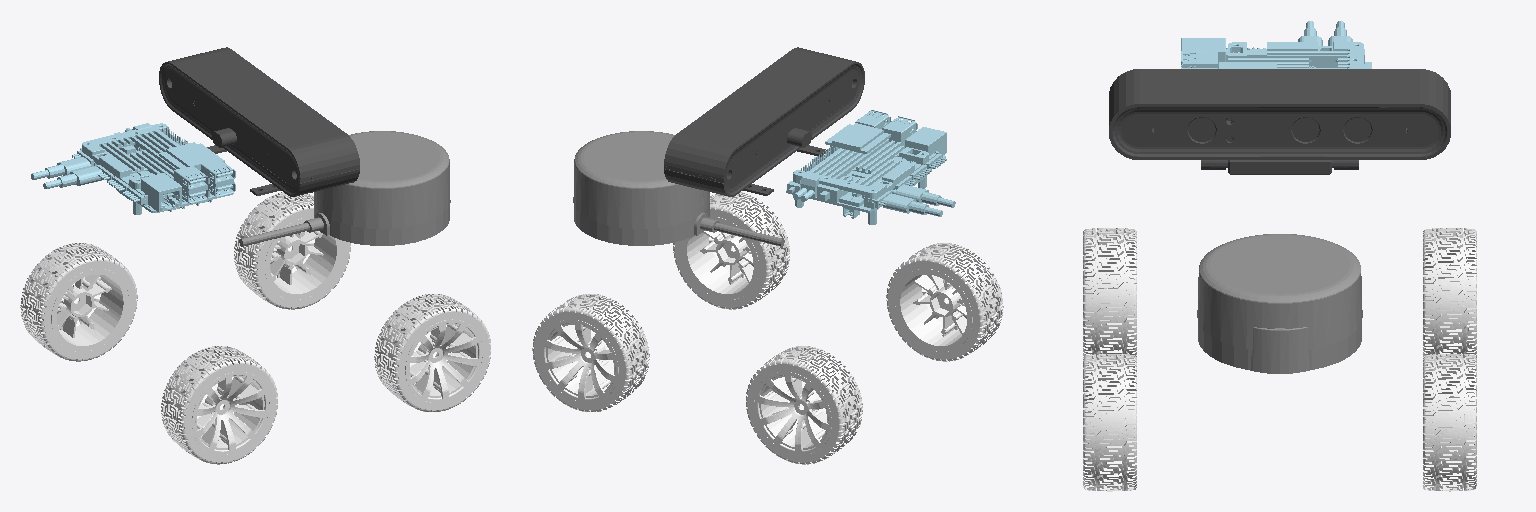
URDF robot description (V550_akm_robot):
<?xml version="1.0" encoding="utf-8"?>
<!-- This URDF was automatically created by SolidWorks to URDF Exporter! Originally created by [author] ([email redacted]) 
     Commit Version: 1.6.0-4-g7f85cfe  Build Version: 1.6.7995.38578
     For more information, please see http://wiki.ros.org/sw_urdf_exporter -->
<robot
  name="V550_akm_robot">
  <link
    name="base_link">
    <inertial>
      <origin
        xyz="-0.0110433387782798 0.00276685441311947 0.0410022330200752"
        rpy="0 0 0" />
      <mass
        value="0.615535458832811" />
      <inertia
        ixx="0.00109033759487232"
        ixy="-2.28207446863102E-06"
        ixz="-1.36249048041868E-05"
        iyy="0.00182350249943942"
        iyz="7.50013898821029E-07"
        izz="0.00272063031666609" />
    </inertial>
    <visual>
      <origin
        xyz="0 0 0"
        rpy="0 0 0" />
      <geometry>
        <mesh
          filename="package://wheeltec_robot_urdf/meshes/V550_akm_robot_meshes/base_link.STL" />
      </geometry>
      <material
        name="">
        <color
          rgba="0.741176470588235 0.901960784313726 0.956862745098039 1" />
      </material>
    </visual>
    <collision>
      <origin
        xyz="0 0 0"
        rpy="0 0 0" />
      <geometry>
        <mesh
          filename="package://wheeltec_robot_urdf/meshes/V550_akm_robot_meshes/base_link.STL" />
      </geometry>
    </collision>
  </link>
  <link
    name="laser_link">
    <inertial>
      <origin
        xyz="0.0037632088127475 -2.06697583141069E-05 0.00474768104523521"
        rpy="0 0 0" />
      <mass
        value="0.057830101833014" />
      <inertia
        ixx="3.4507104093221E-05"
        ixy="8.28206446199136E-08"
        ixz="-1.04628936889599E-06"
        iyy="3.98542740770754E-05"
        iyz="-4.8996851389614E-09"
        izz="5.38409737226242E-05" />
    </inertial>
    <visual>
      <origin
        xyz="0 0 0"
        rpy="0 0 0" />
      <geometry>
        <mesh
          filename="package://wheeltec_robot_urdf/meshes/V550_akm_robot_meshes/laser_link.STL" />
      </geometry>
      <material
        name="">
        <color
          rgba="0.627450980392157 0.627450980392157 0.627450980392157 1" />
      </material>
    </visual>
    <collision>
      <origin
        xyz="0 0 0"
        rpy="0 0 0" />
      <geometry>
        <mesh
          filename="package://wheeltec_robot_urdf/meshes/V550_akm_robot_meshes/laser_link.STL" />
      </geometry>
    </collision>
  </link>
  <joint
    name="laser_joint"
    type="fixed">
    <origin
      xyz="0.10072764400328 0 0.076024183741431"
      rpy="0 0 0" />
    <parent
      link="base_link" />
    <child
      link="laser_link" />
    <axis
      xyz="0 0 0" />
  </joint>
  <link
    name="camera_link">
    <inertial>
      <origin
        xyz="3.4242E-07 1.9641E-07 4.5009E-07"
        rpy="0 0 0" />
      <mass
        value="0.056843" />
      <inertia
        ixx="0.000128"
        ixy="1.2018E-07"
        ixz="1.0878E-06"
        iyy="1.7724E-05"
        iyz="-2.4191E-08"
        izz="0.00012928" />
    </inertial>
    <visual>
      <origin
        xyz="0 0 0"
        rpy="0 0 0" />
      <geometry>
        <mesh
          filename="package://wheeltec_robot_urdf/meshes/V550_akm_robot_meshes/camera_link.STL" />
      </geometry>
      <material
        name="">
        <color
          rgba="0.37647 0.37647 0.37647 1" />
      </material>
    </visual>
    <collision>
      <origin
        xyz="0 0 0"
        rpy="0 0 0" />
      <geometry>
        <mesh
          filename="package://wheeltec_robot_urdf/meshes/V550_akm_robot_meshes/camera_link.STL" />
      </geometry>
    </collision>
  </link>
  <joint
    name="camera_joint"
    type="fixed">
    <origin
      xyz="0.0193116745058398 7.41611063557746E-05 0.141688"
      rpy="0 0 0" />
    <parent
      link="base_link" />
    <child
      link="camera_link" />
    <axis
      xyz="0 0 0" />
  </joint>
  <link
    name="controller_link">
    <inertial>
      <origin
        xyz="0.027057 0.025109 0.014174"
        rpy="0 0 0" />
      <mass
        value="0.018106" />
      <inertia
        ixx="1.3133E-05"
        ixy="3.0436E-07"
        ixz="-3.372E-07"
        iyy="6.8759E-06"
        iyz="3.2736E-07"
        izz="1.9248E-05" />
    </inertial>
    <visual>
      <origin
        xyz="0 0 0"
        rpy="0 0 0" />
      <geometry>
        <mesh
          filename="package://wheeltec_robot_urdf/meshes/V550_akm_robot_meshes/controller_link.STL" />
      </geometry>
      <material
        name="">
        <color
          rgba="0.74118 0.90196 0.95686 1" />
      </material>
    </visual>
    <collision>
      <origin
        xyz="0 0 0"
        rpy="0 0 0" />
      <geometry>
        <mesh
          filename="package://wheeltec_robot_urdf/meshes/V550_akm_robot_meshes/controller_link.STL" />
      </geometry>
    </collision>
  </link>
  <joint
    name="controller_joint"
    type="fixed">
    <origin
      xyz="-0.0778939996927367 -0.022346849136488 0.117000000002309"
      rpy="0 0 0" />
    <parent
      link="base_link" />
    <child
      link="controller_link" />
    <axis
      xyz="0 0 0" />
  </joint>
  <link
    name="lb_wheel_link">
    <inertial>
      <origin
        xyz="4.6582E-08 0.0013656 -1.6116E-08"
        rpy="0 0 0" />
      <mass
        value="0.043708" />
      <inertia
        ixx="1.7943E-05"
        ixy="2.197E-11"
        ixz="-1.2129E-12"
        iyy="3.112E-05"
        iyz="8.1625E-13"
        izz="1.7943E-05" />
    </inertial>
    <visual>
      <origin
        xyz="0 0 0"
        rpy="0 0 0" />
      <geometry>
        <mesh
          filename="package://wheeltec_robot_urdf/meshes/V550_akm_robot_meshes/lb_wheel_link.STL" />
      </geometry>
      <material
        name="">
        <color
          rgba="1 1 1 1" />
      </material>
    </visual>
    <collision>
      <origin
        xyz="0 0 0"
        rpy="0 0 0" />
      <geometry>
        <mesh
          filename="package://wheeltec_robot_urdf/meshes/V550_akm_robot_meshes/lb_wheel_link.STL" />
      </geometry>
    </collision>
  </link>
  <joint
    name="lb_wheel_joint"
    type="continuous">
    <origin
      xyz="-0.0557423258673446 0.080863131909525 0.0140000000038106"
      rpy="0 0 0" />
    <parent
      link="base_link" />
    <child
      link="lb_wheel_link" />
    <axis
      xyz="0 -1 0" />
  </joint>
  <link
    name="lf_wheel_link">
    <inertial>
      <origin
        xyz="3.0572E-09 0.0013656 -5.0378E-08"
        rpy="0 0 0" />
      <mass
        value="0.043708" />
      <inertia
        ixx="1.7943E-05"
        ixy="1.0069E-11"
        ixz="3.96E-12"
        iyy="3.112E-05"
        iyz="-1.9192E-11"
        izz="1.7943E-05" />
    </inertial>
    <visual>
      <origin
        xyz="0 0 0"
        rpy="0 0 0" />
      <geometry>
        <mesh
          filename="package://wheeltec_robot_urdf/meshes/V550_akm_robot_meshes/lf_wheel_link.STL" />
      </geometry>
      <material
        name="">
        <color
          rgba="1 1 1 1" />
      </material>
    </visual>
    <collision>
      <origin
        xyz="0 0 0"
        rpy="0 0 0" />
      <geometry>
        <mesh
          filename="package://wheeltec_robot_urdf/meshes/V550_akm_robot_meshes/lf_wheel_link.STL" />
      </geometry>
    </collision>
  </link>
  <joint
    name="lf_wheel_joint"
    type="continuous">
    <origin
      xyz="0.0875109893806536 0.0807738681965471 0.014000000003155"
      rpy="0 0 0" />
    <parent
      link="base_link" />
    <child
      link="lf_wheel_link" />
    <axis
      xyz="0 1 0" />
  </joint>
  <link
    name="rb_wheel_link">
    <inertial>
      <origin
        xyz="2.593E-08 -0.0013656 -4.3236E-08"
        rpy="0 0 0" />
      <mass
        value="0.043708" />
      <inertia
        ixx="1.7943E-05"
        ixy="-3.6154E-12"
        ixz="2.5988E-13"
        iyy="3.112E-05"
        iyz="2.1092E-11"
        izz="1.7943E-05" />
    </inertial>
    <visual>
      <origin
        xyz="0 0 0"
        rpy="0 0 0" />
      <geometry>
        <mesh
          filename="package://wheeltec_robot_urdf/meshes/V550_akm_robot_meshes/rb_wheel_link.STL" />
      </geometry>
      <material
        name="">
        <color
          rgba="1 1 1 1" />
      </material>
    </visual>
    <collision>
      <origin
        xyz="0 0 0"
        rpy="0 0 0" />
      <geometry>
        <mesh
          filename="package://wheeltec_robot_urdf/meshes/V550_akm_robot_meshes/rb_wheel_link.STL" />
      </geometry>
    </collision>
  </link>
  <joint
    name="rb_wheel_joint"
    type="continuous">
    <origin
      xyz="-0.055742 -0.080867 0.014"
      rpy="0 0 0" />
    <parent
      link="base_link" />
    <child
      link="rb_wheel_link" />
    <axis
      xyz="0 -1 0" />
  </joint>
  <link
    name="rf_wheel_link">
    <inertial>
      <origin
        xyz="-3.4192E-08 -0.0013656 -3.7778E-08"
        rpy="0 0 0" />
      <mass
        value="0.043708" />
      <inertia
        ixx="1.7943E-05"
        ixy="1.8994E-11"
        ixz="-2.2402E-12"
        iyy="3.112E-05"
        iyz="9.9444E-12"
        izz="1.7943E-05" />
    </inertial>
    <visual>
      <origin
        xyz="0 0 0"
        rpy="0 0 0" />
      <geometry>
        <mesh
          filename="package://wheeltec_robot_urdf/meshes/V550_akm_robot_meshes/rf_wheel_link.STL" />
      </geometry>
      <material
        name="">
        <color
          rgba="1 1 1 1" />
      </material>
    </visual>
    <collision>
      <origin
        xyz="0 0 0"
        rpy="0 0 0" />
      <geometry>
        <mesh
          filename="package://wheeltec_robot_urdf/meshes/V550_akm_robot_meshes/rf_wheel_link.STL" />
      </geometry>
    </collision>
  </link>
  <joint
    name="rf_wheel_joint"
    type="continuous">
    <origin
      xyz="0.08753 -0.08083 0.014"
      rpy="0 0 0" />
    <parent
      link="base_link" />
    <child
      link="rf_wheel_link" />
    <axis
      xyz="0 1 0" />
  </joint>
</robot>

--- Render facts (derived) ---
Views: 3 orthographic renders of the robot side by side, from view 1: azimuth 30°, elevation 25°; view 2: azimuth 150°, elevation 25°; view 3: azimuth 270°, elevation 25°.
Robot: V550_akm_robot — 8 links, 7 joints (4 continuous, 3 fixed); root link base_link; default pose: every joint at zero.
Links seen in each view (by area): view 1: camera_link, laser_link, controller_link, rb_wheel_link, lb_wheel_link, rf_wheel_link, lf_wheel_link; view 2: camera_link, laser_link, controller_link, lb_wheel_link, rb_wheel_link, lf_wheel_link, rf_wheel_link; view 3: camera_link, laser_link, rf_wheel_link, lf_wheel_link, lb_wheel_link, rb_wheel_link, controller_link.
Link boxes in pixels (x1,y1,x2,y2): camera_link: (159,47,359,196); laser_link: (239,131,450,246); controller_link: (31,123,235,214); rb_wheel_link: (161,346,277,464); lb_wheel_link: (20,243,137,361); rf_wheel_link: (374,294,490,411); lf_wheel_link: (234,192,350,309); camera_link: (664,47,864,196); laser_link: (573,131,784,246); controller_link: (786,110,955,224); lb_wheel_link: (746,346,862,464); rb_wheel_link: (886,243,1003,361); lf_wheel_link: (532,294,649,411); rf_wheel_link: (673,192,789,309); camera_link: (1109,69,1450,174); laser_link: (1197,234,1362,373); rf_wheel_link: (1083,354,1136,491); lf_wheel_link: (1423,354,1476,491); lb_wheel_link: (1423,228,1476,357); rb_wheel_link: (1083,228,1136,357); controller_link: (1181,21,1371,68).
Bounding box of the posed robot: 0.2592 × 0.1896 × 0.1794 m (x, y, z).
7 mesh visuals loaded from 8 distinct referenced files (7 binary STL); not drawn: 1 (reference not matched to a file when rendering).